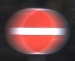No entry: (6, 6, 69, 56)
